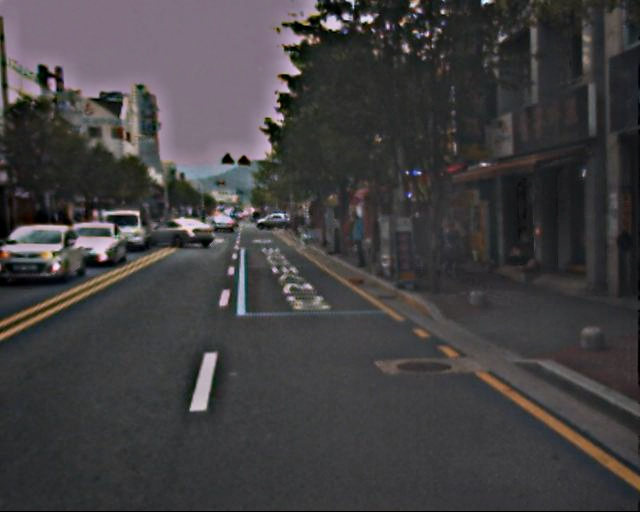person: (346, 210, 369, 265), (437, 219, 459, 272)
